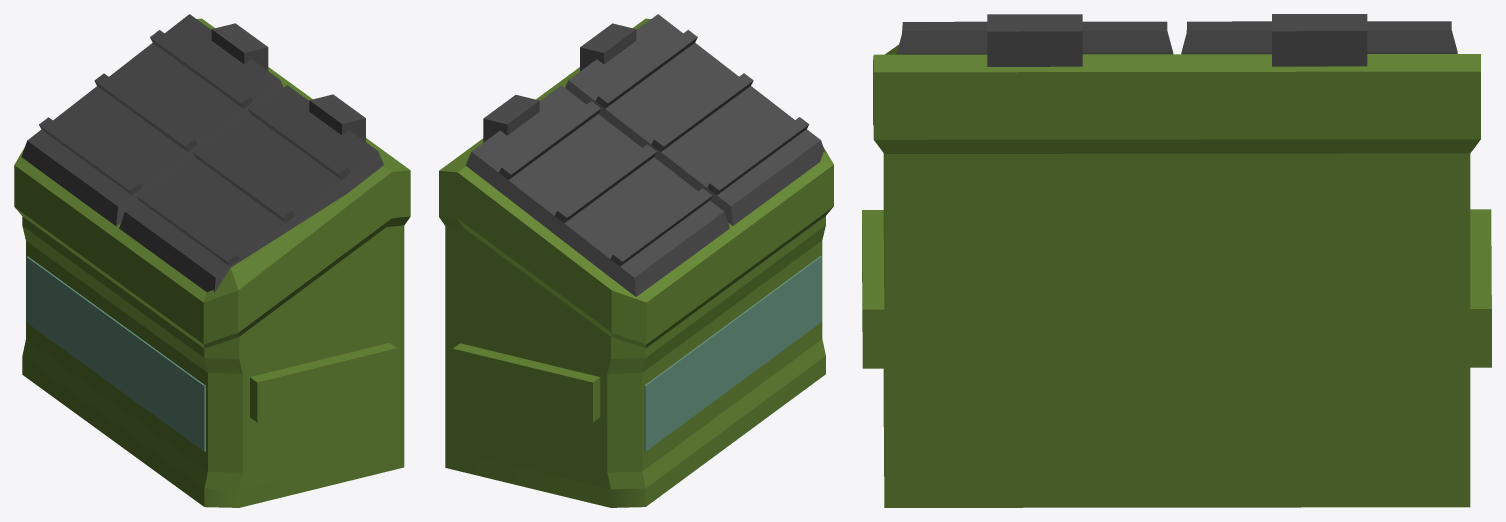
File: Dumpster.fbx
3 renders of one model, left to right at view 1: azimuth 30°, elevation 25°; view 2: azimuth 150°, elevation 25°; view 3: azimuth 270°, elevation 25°, orthographic. The views are drawn at different scales.
Visible parts, largest first — view 1: pCube25, pCube31 (×2), pCube28, pCube27, pCube32 (×2), pCube33 (×2), pCube34 (×2), pCube29, pCube30; view 2: pCube25, pCube31 (×2), pCube28, pCube26, pCube32 (×2), pCube33 (×2), pCube34 (×2), pCube29, pCube30; view 3: pCube25, pCube31 (×2), pCube30, pCube29, pCube27, pCube26, pCube32 (×2).
Boxes of the visible parts, x1,y1,x2,y2 form: pCube25: (14, 18, 410, 507); pCube31 (×2): (21, 14, 383, 292); pCube28: (26, 256, 205, 451); pCube27: (250, 343, 396, 422); pCube32 (×2): (150, 30, 350, 179); pCube33 (×2): (94, 73, 295, 222); pCube34 (×2): (39, 117, 239, 266); pCube29: (211, 23, 268, 70); pCube30: (309, 94, 365, 141); pCube25: (439, 18, 833, 507); pCube31 (×2): (465, 14, 825, 296); pCube28: (644, 256, 821, 451); pCube26: (452, 343, 600, 422); pCube32 (×2): (499, 30, 697, 179); pCube33 (×2): (554, 73, 753, 223); pCube34 (×2): (610, 117, 809, 266); pCube29: (483, 95, 539, 142); pCube30: (580, 23, 636, 71); pCube25: (873, 44, 1480, 507); pCube31 (×2): (896, 30, 1457, 54); pCube30: (987, 14, 1082, 66); pCube29: (1272, 14, 1367, 66); pCube27: (862, 210, 884, 368); pCube26: (1470, 209, 1491, 367); pCube32 (×2): (902, 21, 1451, 30).
Bounding box in the file's own units: 2.8 × 4.37 × 5.26.
